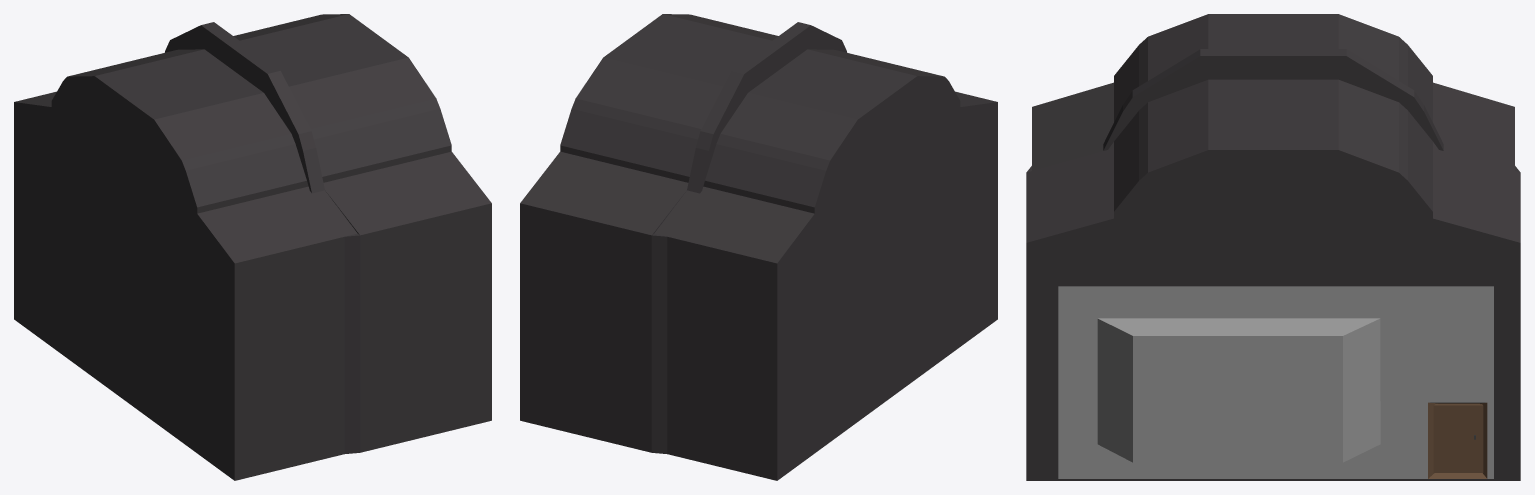
File: Shop.fbx
3 views of the same model, side by side, from view 1: azimuth 30°, elevation 25°; view 2: azimuth 150°, elevation 25°; view 3: azimuth 270°, elevation 25° (orthographic). The views are drawn at different scales.
Parts seen in each view (by area): view 1: Building; view 2: Building; view 3: Building, Door.
Part boxes in pixels (x1,y1,x2,y2): Building: (14, 14, 491, 480); Building: (520, 14, 997, 480); Building: (1026, 14, 1520, 480); Door: (1433, 404, 1483, 472).
Size of the model in its own units: 1317 by 1414 by 1787.
